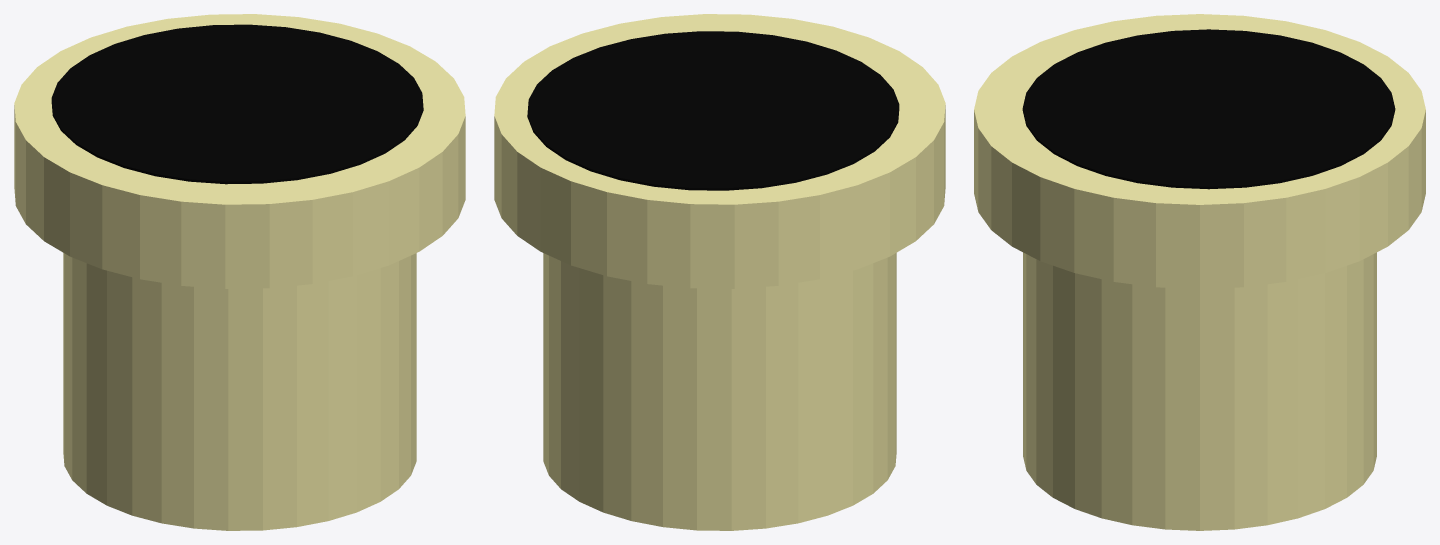
File: pipey.gltf
The picture shows the model from 3 angles, left to right: view 1: azimuth 30°, elevation 25°; view 2: azimuth 150°, elevation 25°; view 3: azimuth 270°, elevation 25°; orthographic projection.
Visible parts, largest first — view 1: Cylinder.004, Cylinder, Cylinder.001; view 2: Cylinder.004, Cylinder, Cylinder.001; view 3: Cylinder.004, Cylinder, Cylinder.001.
Part boxes in pixels (<box>): Cylinder.004: <box>63,253,416,530</box>; Cylinder: <box>14,14,465,288</box>; Cylinder.001: <box>51,24,423,184</box>; Cylinder.004: <box>543,253,896,530</box>; Cylinder: <box>494,14,945,288</box>; Cylinder.001: <box>527,31,899,190</box>; Cylinder.004: <box>1023,252,1376,530</box>; Cylinder: <box>974,14,1425,288</box>; Cylinder.001: <box>1022,29,1395,189</box>.
Size of the model in its own units: 1.04 by 0.8827 by 1.04.
